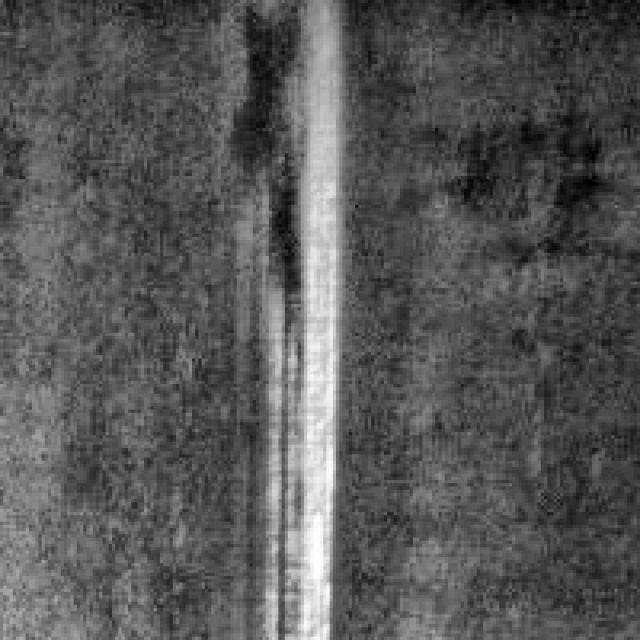Inclusion: (252, 99, 340, 634)
